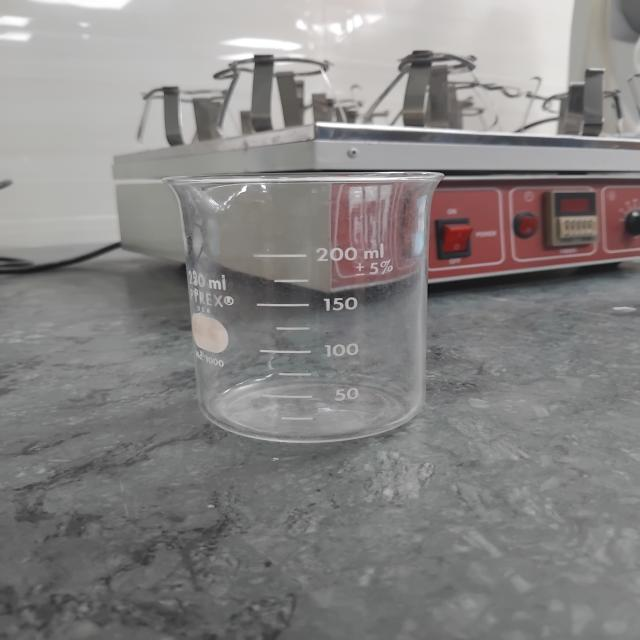Beaker: (119, 124, 489, 457)
